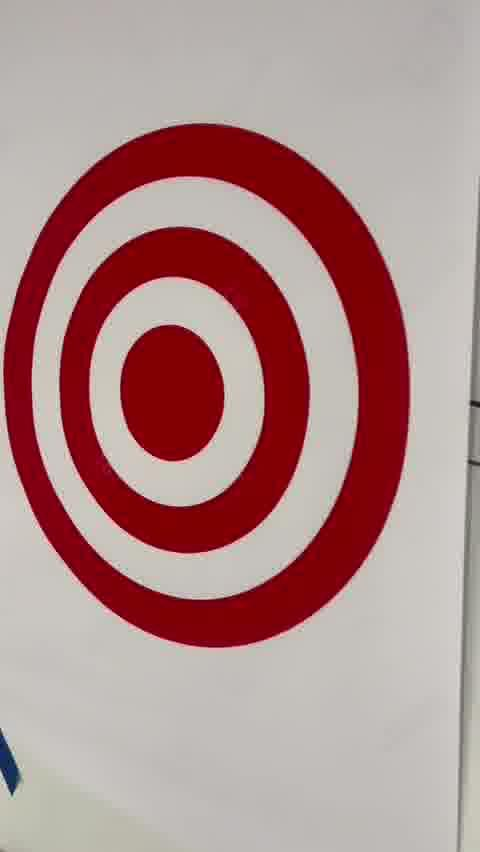target_red: (0, 122, 413, 646)
